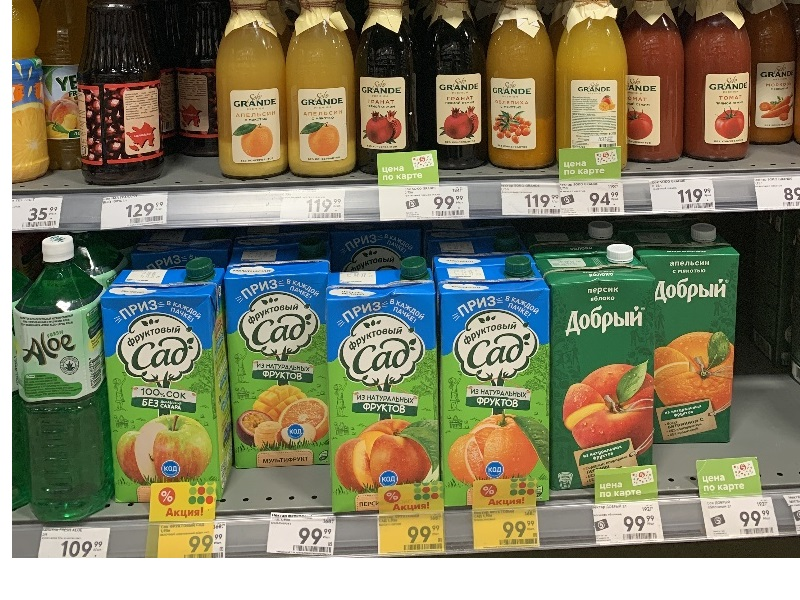juice: (320, 258, 453, 517), (432, 250, 562, 513), (107, 258, 240, 513), (541, 240, 665, 506), (219, 238, 345, 476), (640, 224, 749, 456)
